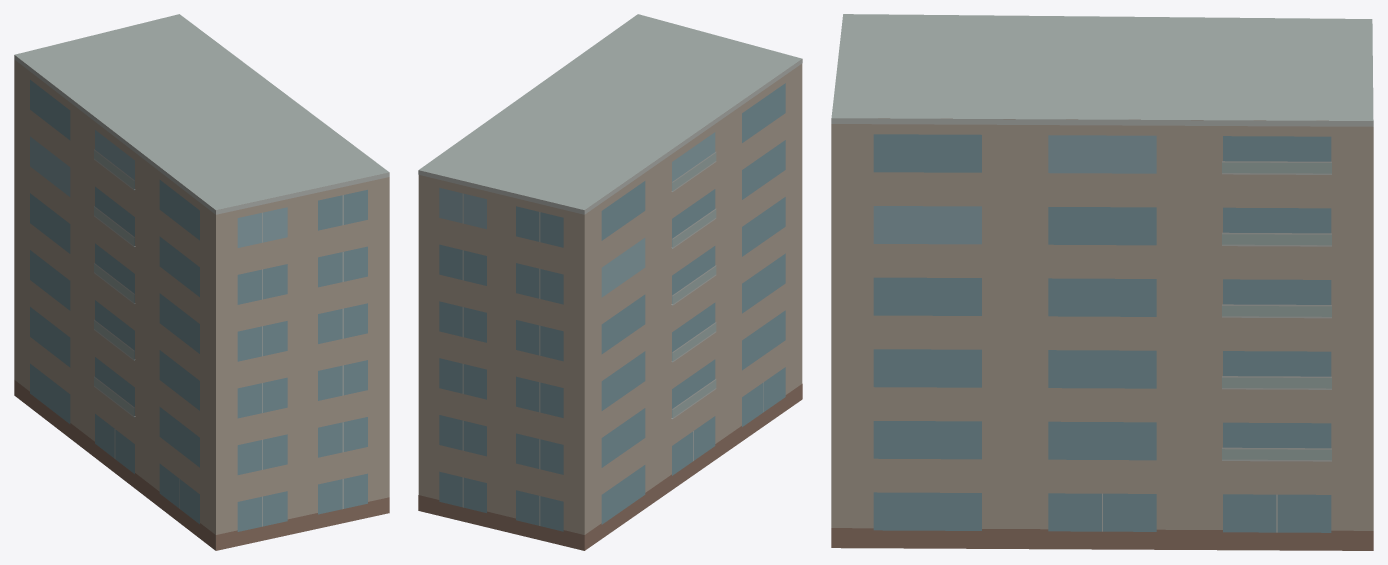
The model's file is survey-upis-32575430.glb.
3 views of the same model, side by side, from view 1: azimuth 30°, elevation 25°; view 2: azimuth 150°, elevation 25°; view 3: azimuth 270°, elevation 25° (orthographic). The views are drawn at different scales.
Parts seen in each view (by area): view 1: survey-upis-32575430.tmp; view 2: survey-upis-32575430.tmp; view 3: survey-upis-32575430.tmp.
Part boxes in pixels (x1,y1,x2,y2): survey-upis-32575430.tmp: (14, 14, 389, 550); survey-upis-32575430.tmp: (418, 14, 802, 550); survey-upis-32575430.tmp: (831, 14, 1373, 550).
Size of the model in its own units: 9.69 by 18.1 by 20.7.
